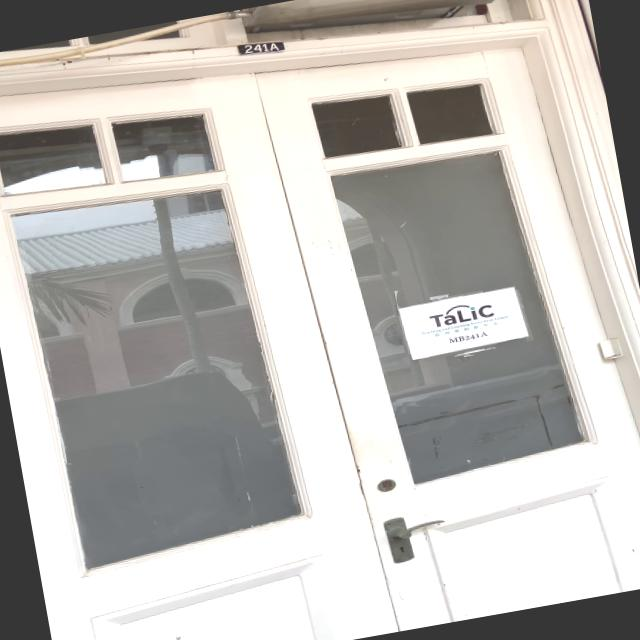room241a: (233, 34, 286, 60)
